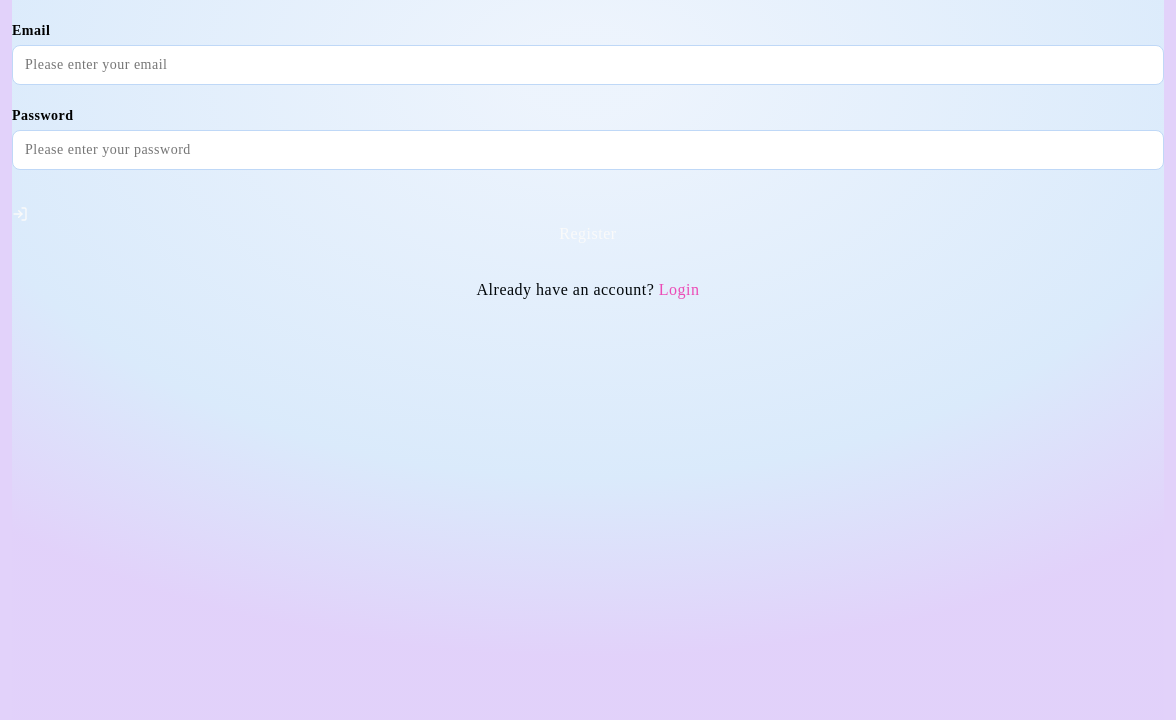
Registerform › shows validation errors when fields are empty on submit
Click the button "Register": (588, 226) [12,186,1164,266]
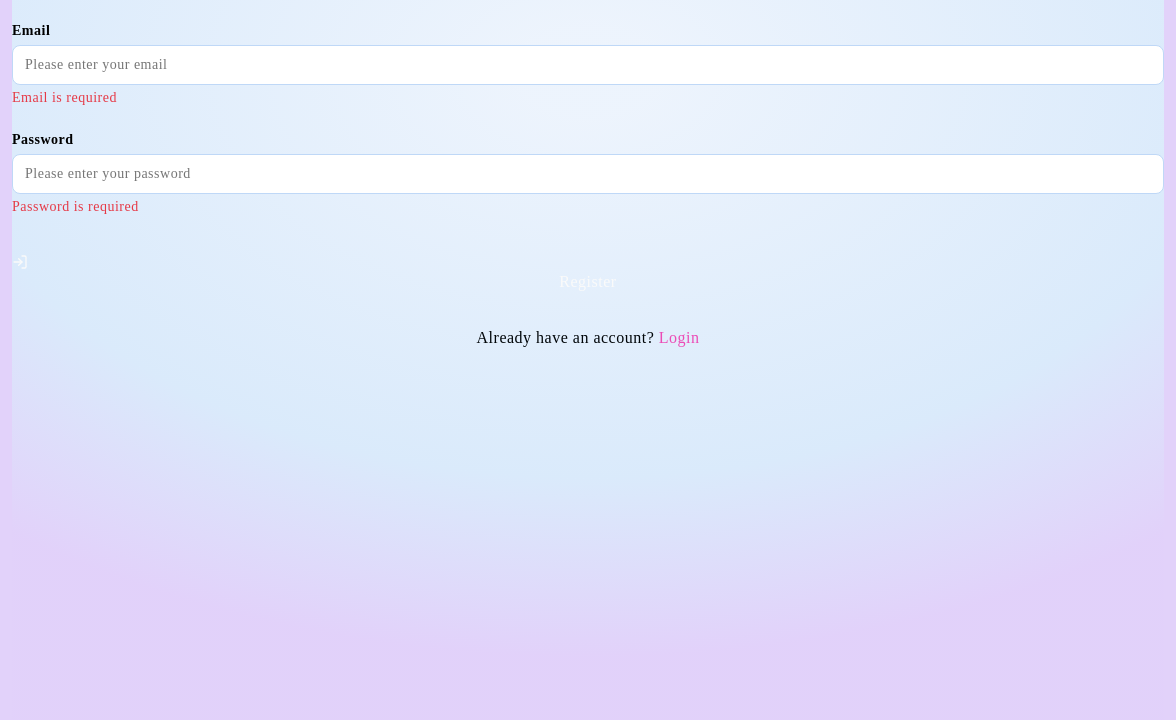
Check: the text "Email is required" is shown, box [12,90,117,105]
Check: the text "Password is required" is shown, box [12,199,139,214]
